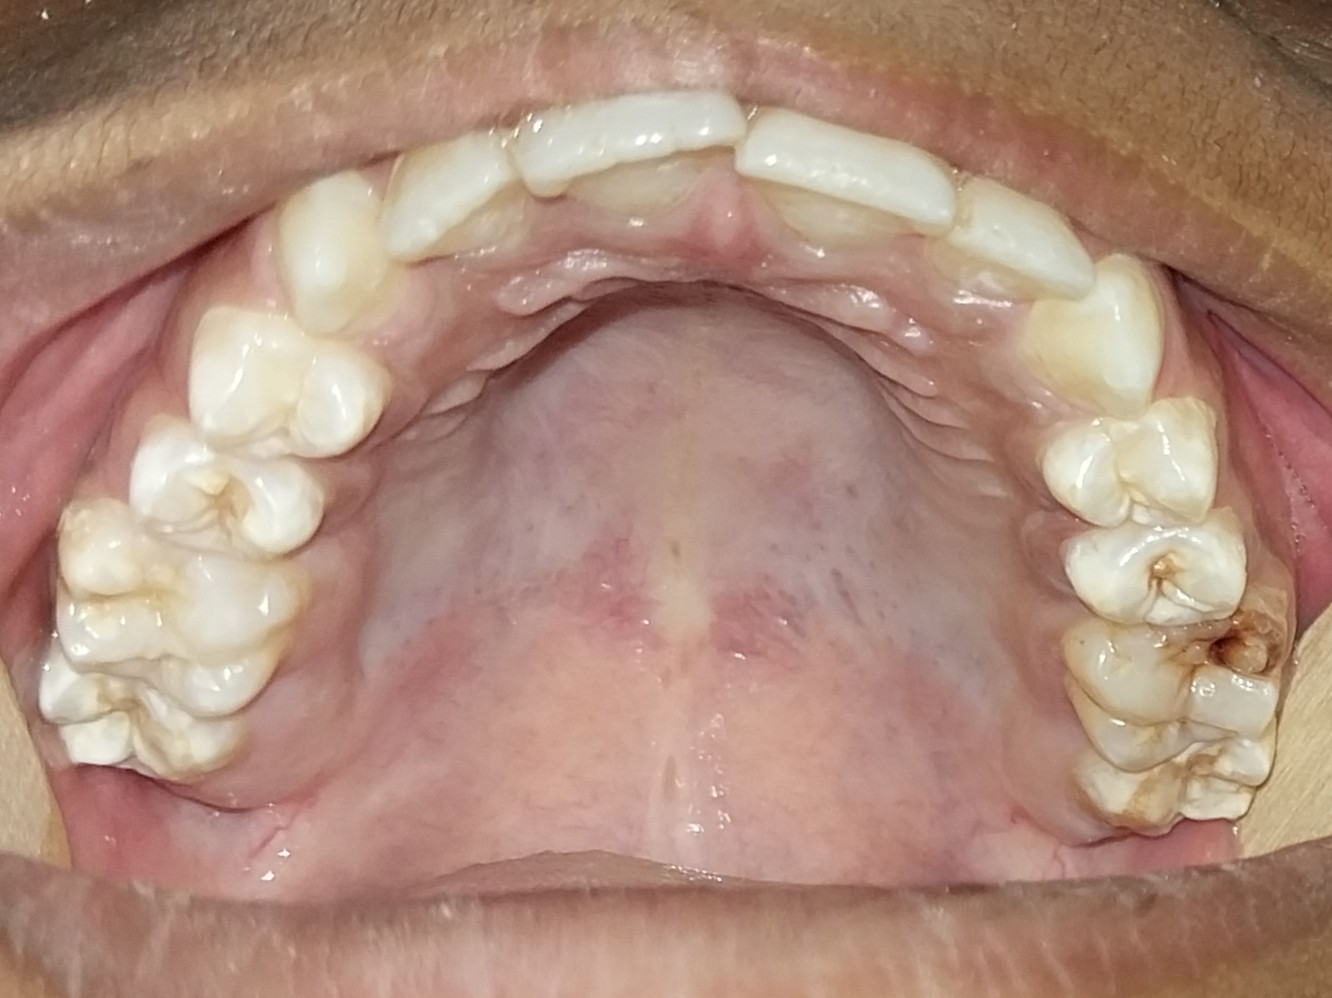D: (1066, 575, 1288, 760), (1058, 524, 1252, 627)
